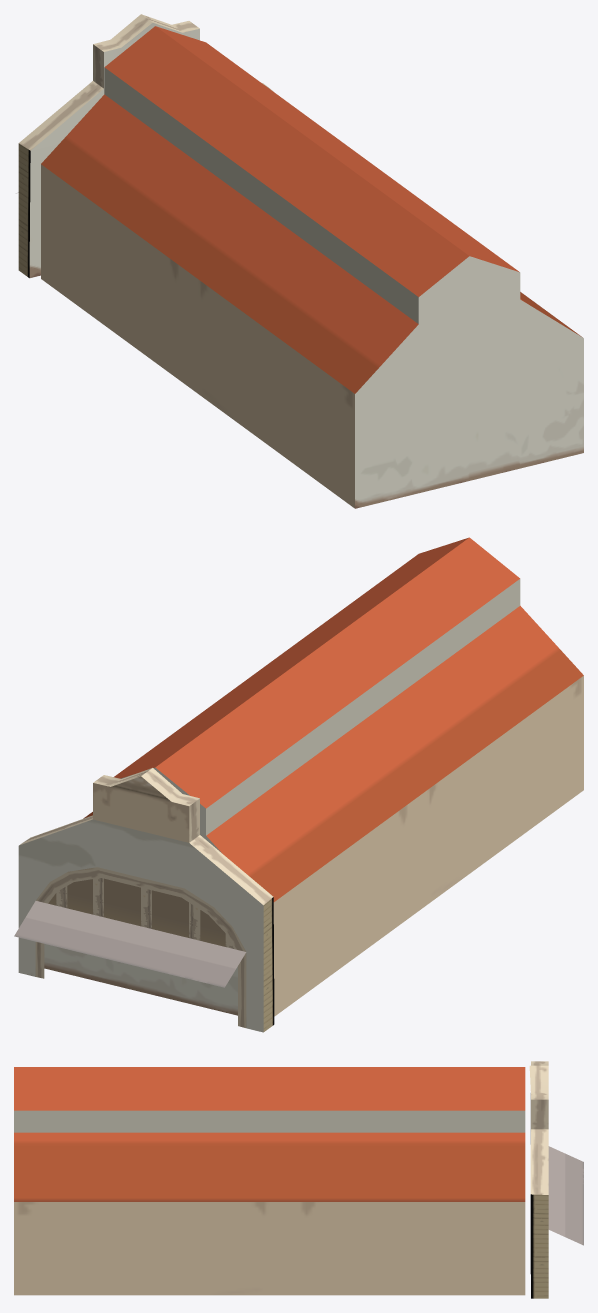
The model's file is SM_Building_Market_02.fbx.
The picture shows the model from 3 angles, top to bottom: view 1: azimuth 30°, elevation 25°; view 2: azimuth 150°, elevation 25°; view 3: azimuth 270°, elevation 25°; orthographic projection. The views are drawn at different scales.
Parts seen in each view (by area): view 1: SM_Building_Market_02; view 2: SM_Building_Market_02; view 3: SM_Building_Market_02.
Part boxes in pixels (<box>): SM_Building_Market_02: <box>16,14,583,508</box>; SM_Building_Market_02: <box>14,537,583,1032</box>; SM_Building_Market_02: <box>14,1061,583,1298</box>.
Size of the model in its own units: 14.56 by 12.86 by 36.06.
